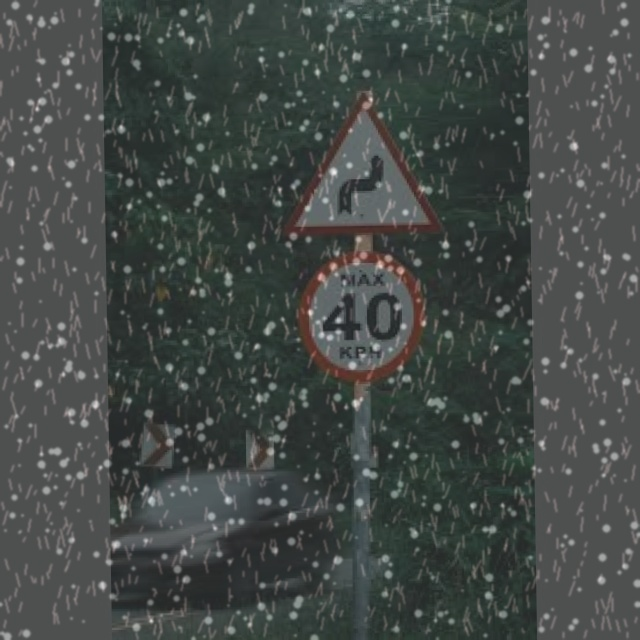Speed_Limit_40: (300, 249, 428, 387)
